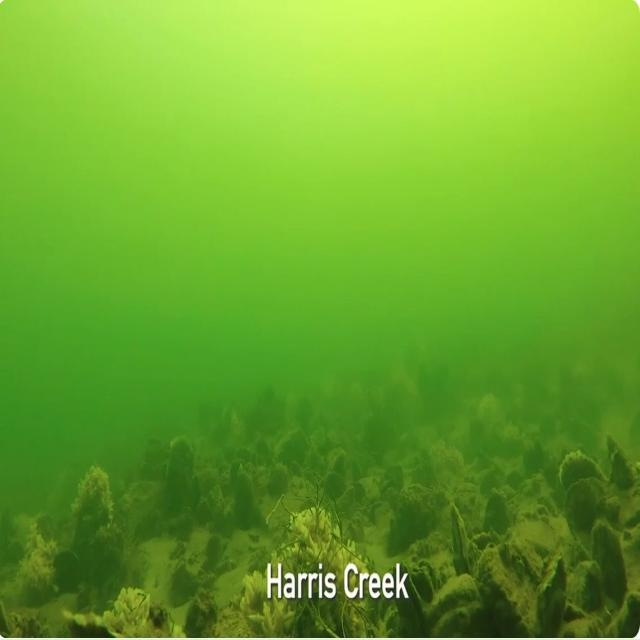Oyster- Indeterminate: (405, 563, 490, 640), (585, 510, 634, 585), (387, 484, 437, 540), (561, 471, 611, 526), (383, 552, 422, 621), (162, 435, 196, 507), (554, 447, 609, 491), (513, 513, 562, 560), (600, 583, 640, 640), (567, 557, 607, 610), (233, 467, 265, 533), (56, 609, 124, 640), (184, 586, 220, 637), (155, 505, 197, 545), (87, 523, 127, 564), (273, 431, 314, 468), (608, 439, 639, 486), (372, 459, 408, 494), (209, 477, 230, 528), (0, 602, 24, 639), (504, 535, 525, 577), (196, 490, 217, 531), (34, 507, 60, 539), (232, 437, 258, 469), (335, 478, 358, 513), (205, 530, 226, 568), (8, 538, 30, 571), (325, 465, 345, 497), (191, 471, 208, 508), (170, 559, 190, 590), (268, 467, 291, 492), (257, 434, 275, 462), (231, 458, 255, 476), (332, 447, 350, 468), (221, 469, 237, 488)
Oyster-Closed: (478, 557, 531, 638), (114, 587, 160, 627), (117, 479, 163, 512), (449, 503, 472, 567), (473, 525, 503, 553)
Oyster-Open: (535, 557, 573, 619), (51, 541, 82, 586), (411, 553, 439, 598), (483, 490, 510, 532), (345, 511, 369, 542)
